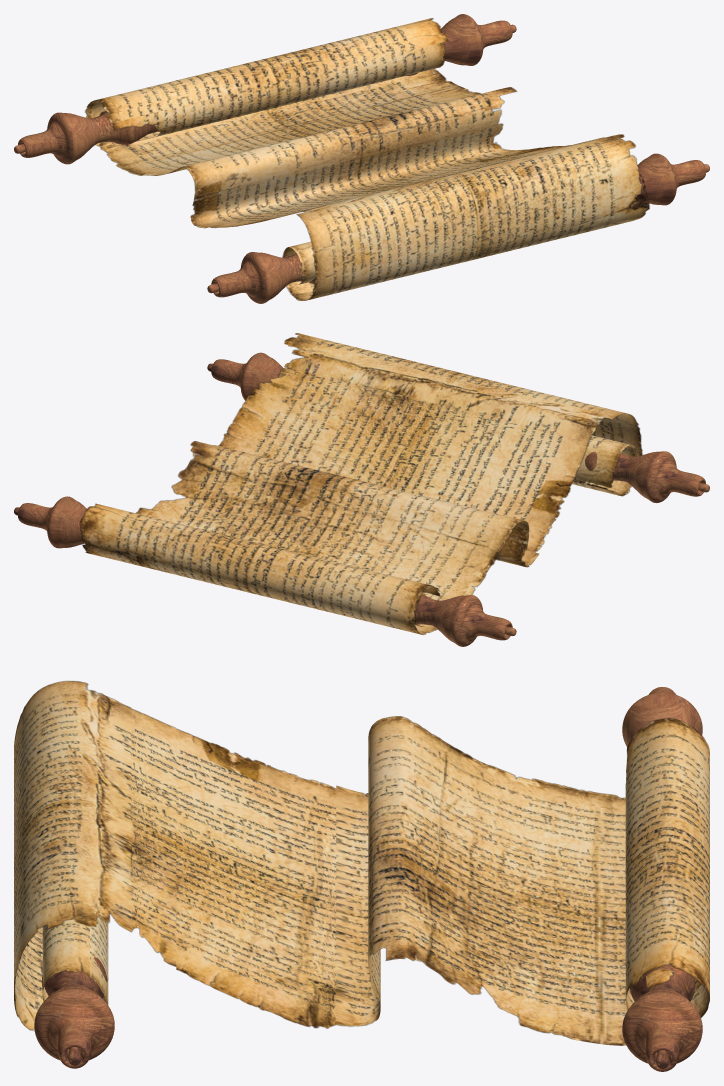
Rendered from OLD SCROLL.glb.
3 renders of one model, top to bottom at view 1: azimuth 30°, elevation 25°; view 2: azimuth 150°, elevation 25°; view 3: azimuth 270°, elevation 25°, orthographic. The views are drawn at different scales.
Parts seen in each view (by area): view 1: Papyrus, wooden pole 1, wooden pole 2; view 2: Papyrus, wooden pole 1, wooden pole 2; view 3: Papyrus, wooden pole 1, wooden pole 2.
Boxes of the visible parts, x1,y1,x2,y2 form: Papyrus: [85, 18, 649, 300]; wooden pole 1: [14, 14, 516, 164]; wooden pole 2: [207, 153, 709, 303]; Papyrus: [80, 333, 642, 635]; wooden pole 1: [14, 496, 516, 646]; wooden pole 2: [207, 352, 709, 503]; Papyrus: [14, 681, 709, 1045]; wooden pole 1: [622, 687, 702, 1071]; wooden pole 2: [34, 957, 114, 1068].
Size of the model in its own units: 6.02 by 0.9056 by 4.77.
2 materials, 2 textured.
